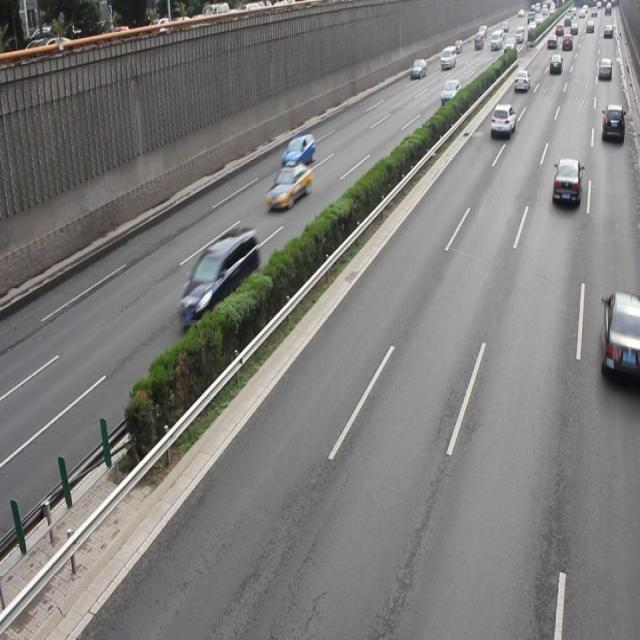car: (599, 289, 640, 378), (266, 159, 310, 210), (550, 156, 580, 206), (281, 133, 314, 167), (600, 103, 624, 144), (488, 102, 513, 137)
truck: (180, 222, 260, 324)
